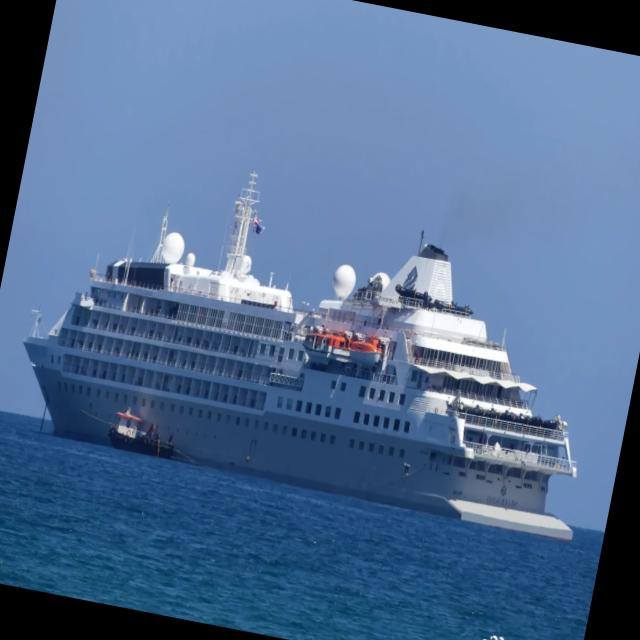Cruise: (24, 174, 577, 540)
Tug: (108, 408, 174, 458)
